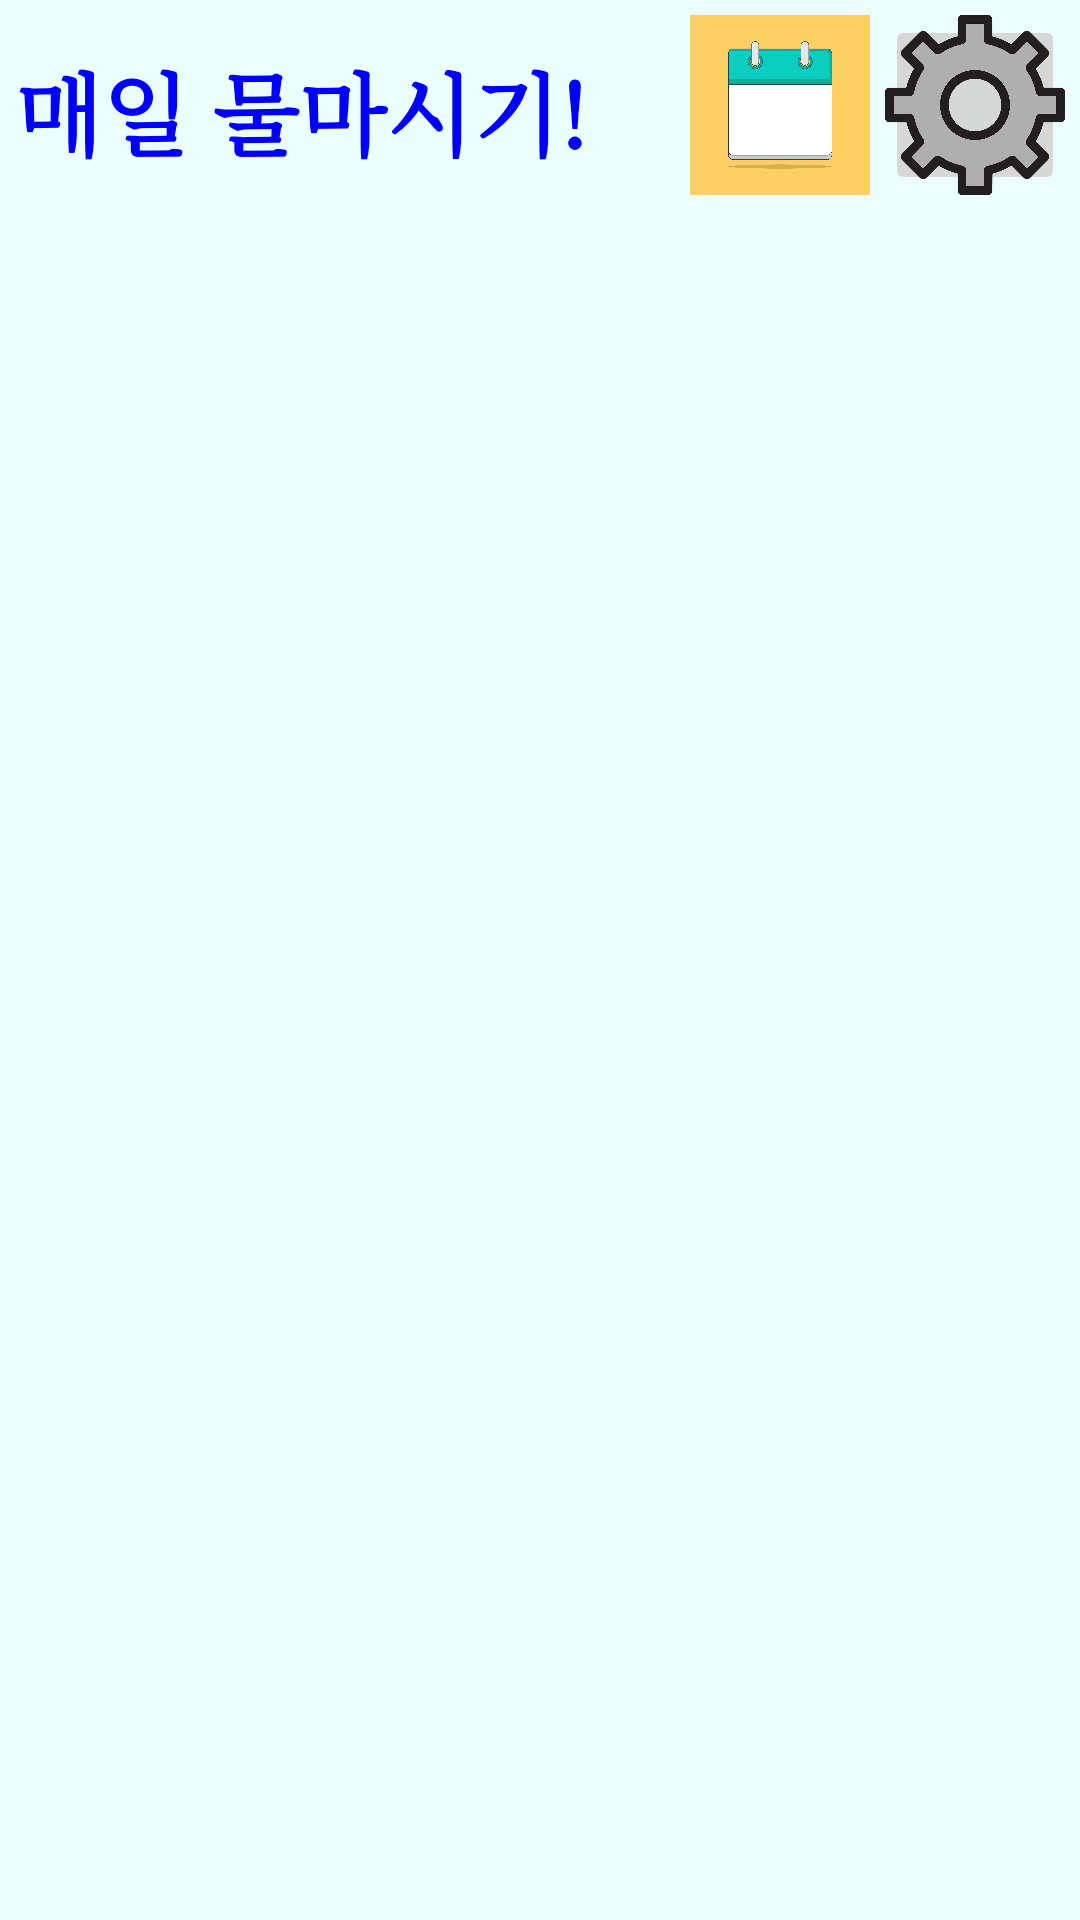

Named icons in this screenshot (1080×1920) and their centers, (x=x, y=y):
calender: (x=780, y=105)
settings: (x=975, y=105)
